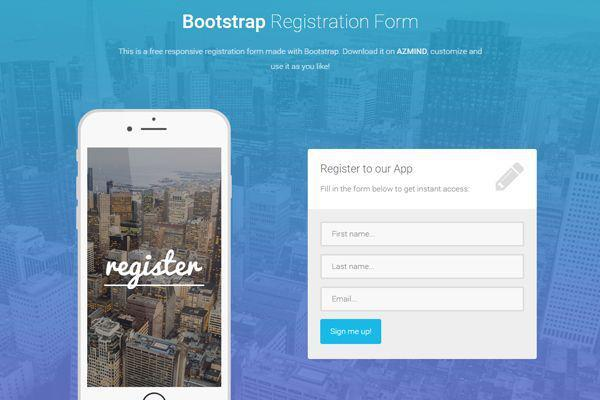button: (321, 319, 383, 346)
input: (322, 255, 525, 280), (323, 223, 525, 248), (322, 288, 524, 313)
